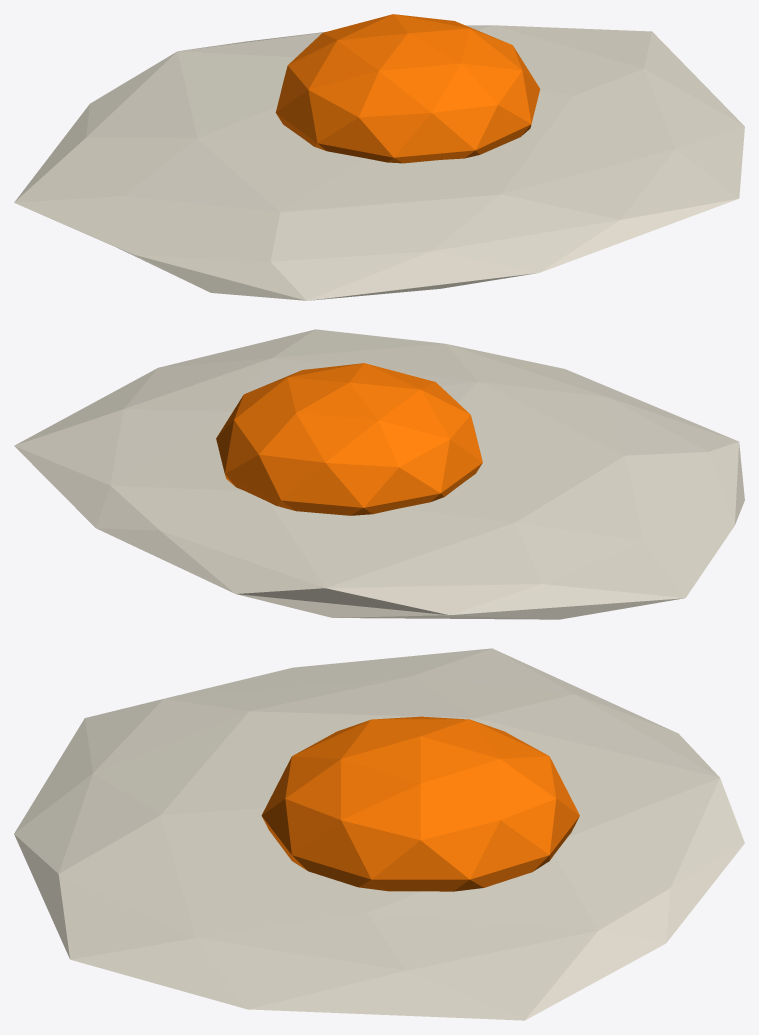
File: fried_egg.obj
3 views of the same model, one above another, from view 1: azimuth 30°, elevation 25°; view 2: azimuth 150°, elevation 25°; view 3: azimuth 270°, elevation 25° (orthographic). The views are drawn at different scales.
Visible parts, largest first — view 1: fried_egg; view 2: fried_egg; view 3: fried_egg.
Boxes of the visible parts, left/top/right/bottom form: fried_egg: left=14, top=14, right=744, bottom=300; fried_egg: left=14, top=329, right=744, bottom=619; fried_egg: left=14, top=648, right=744, bottom=1020.
Size of the model in its own units: 0.1002 by 0.0198 by 0.0826.
